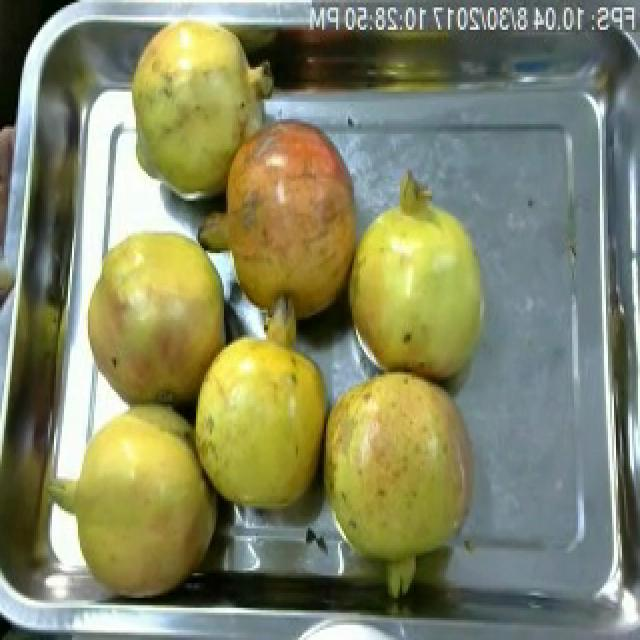fruit: (308, 354, 488, 608), (46, 387, 230, 610), (110, 0, 288, 218), (74, 203, 244, 420), (336, 166, 498, 392), (178, 312, 342, 530), (206, 107, 368, 280)
